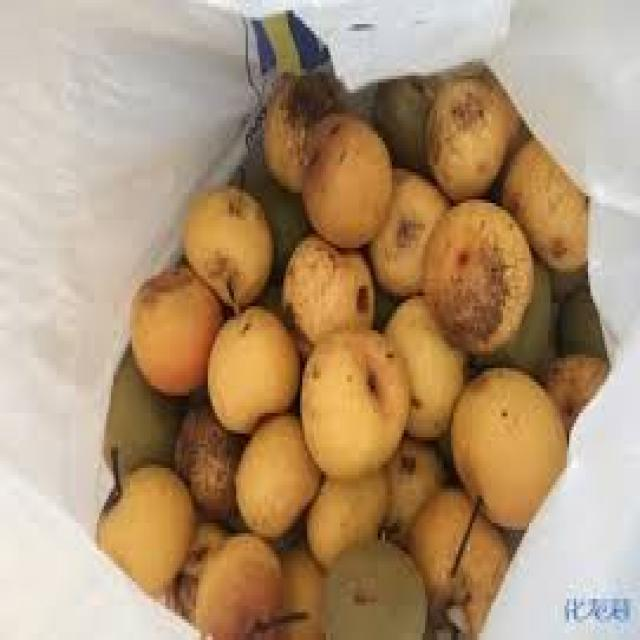food_waste: (97, 62, 607, 637)
